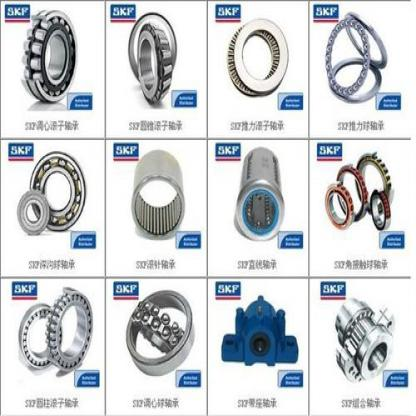FOD: (18, 10, 82, 109), (126, 14, 184, 110), (130, 148, 185, 249), (232, 145, 284, 245), (27, 151, 89, 233), (16, 300, 63, 376), (321, 180, 356, 234), (17, 188, 51, 238), (368, 188, 394, 234)
